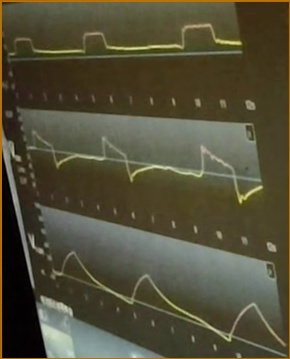Accumulation Flow: (29, 127, 262, 205)
Volume: (52, 249, 288, 345)
